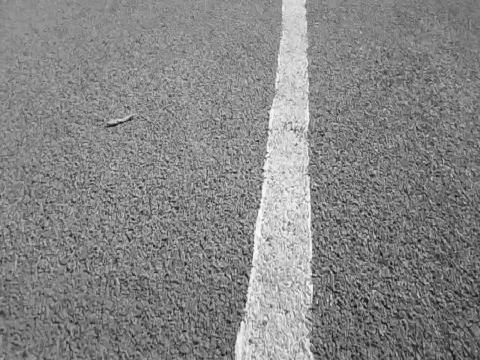Lines: (234, 0, 313, 360)
